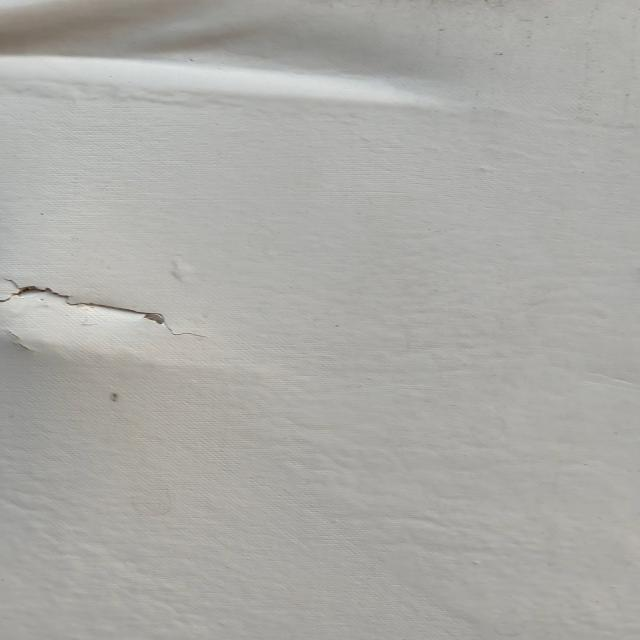Dents or Deformation: (1, 1, 514, 119)
Scratches: (1, 261, 220, 352)
